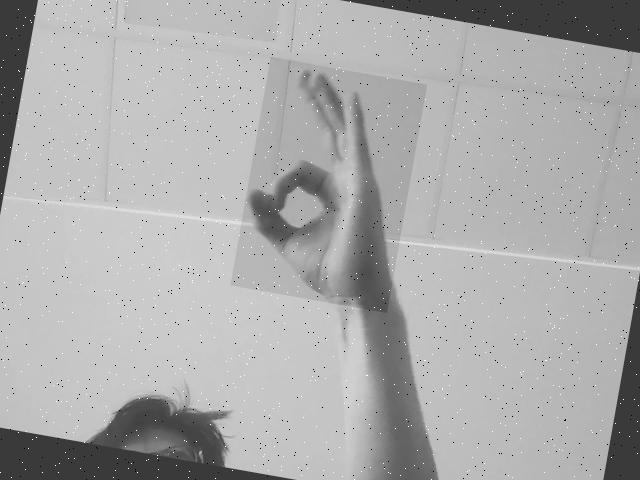OK: (246, 64, 390, 304)
